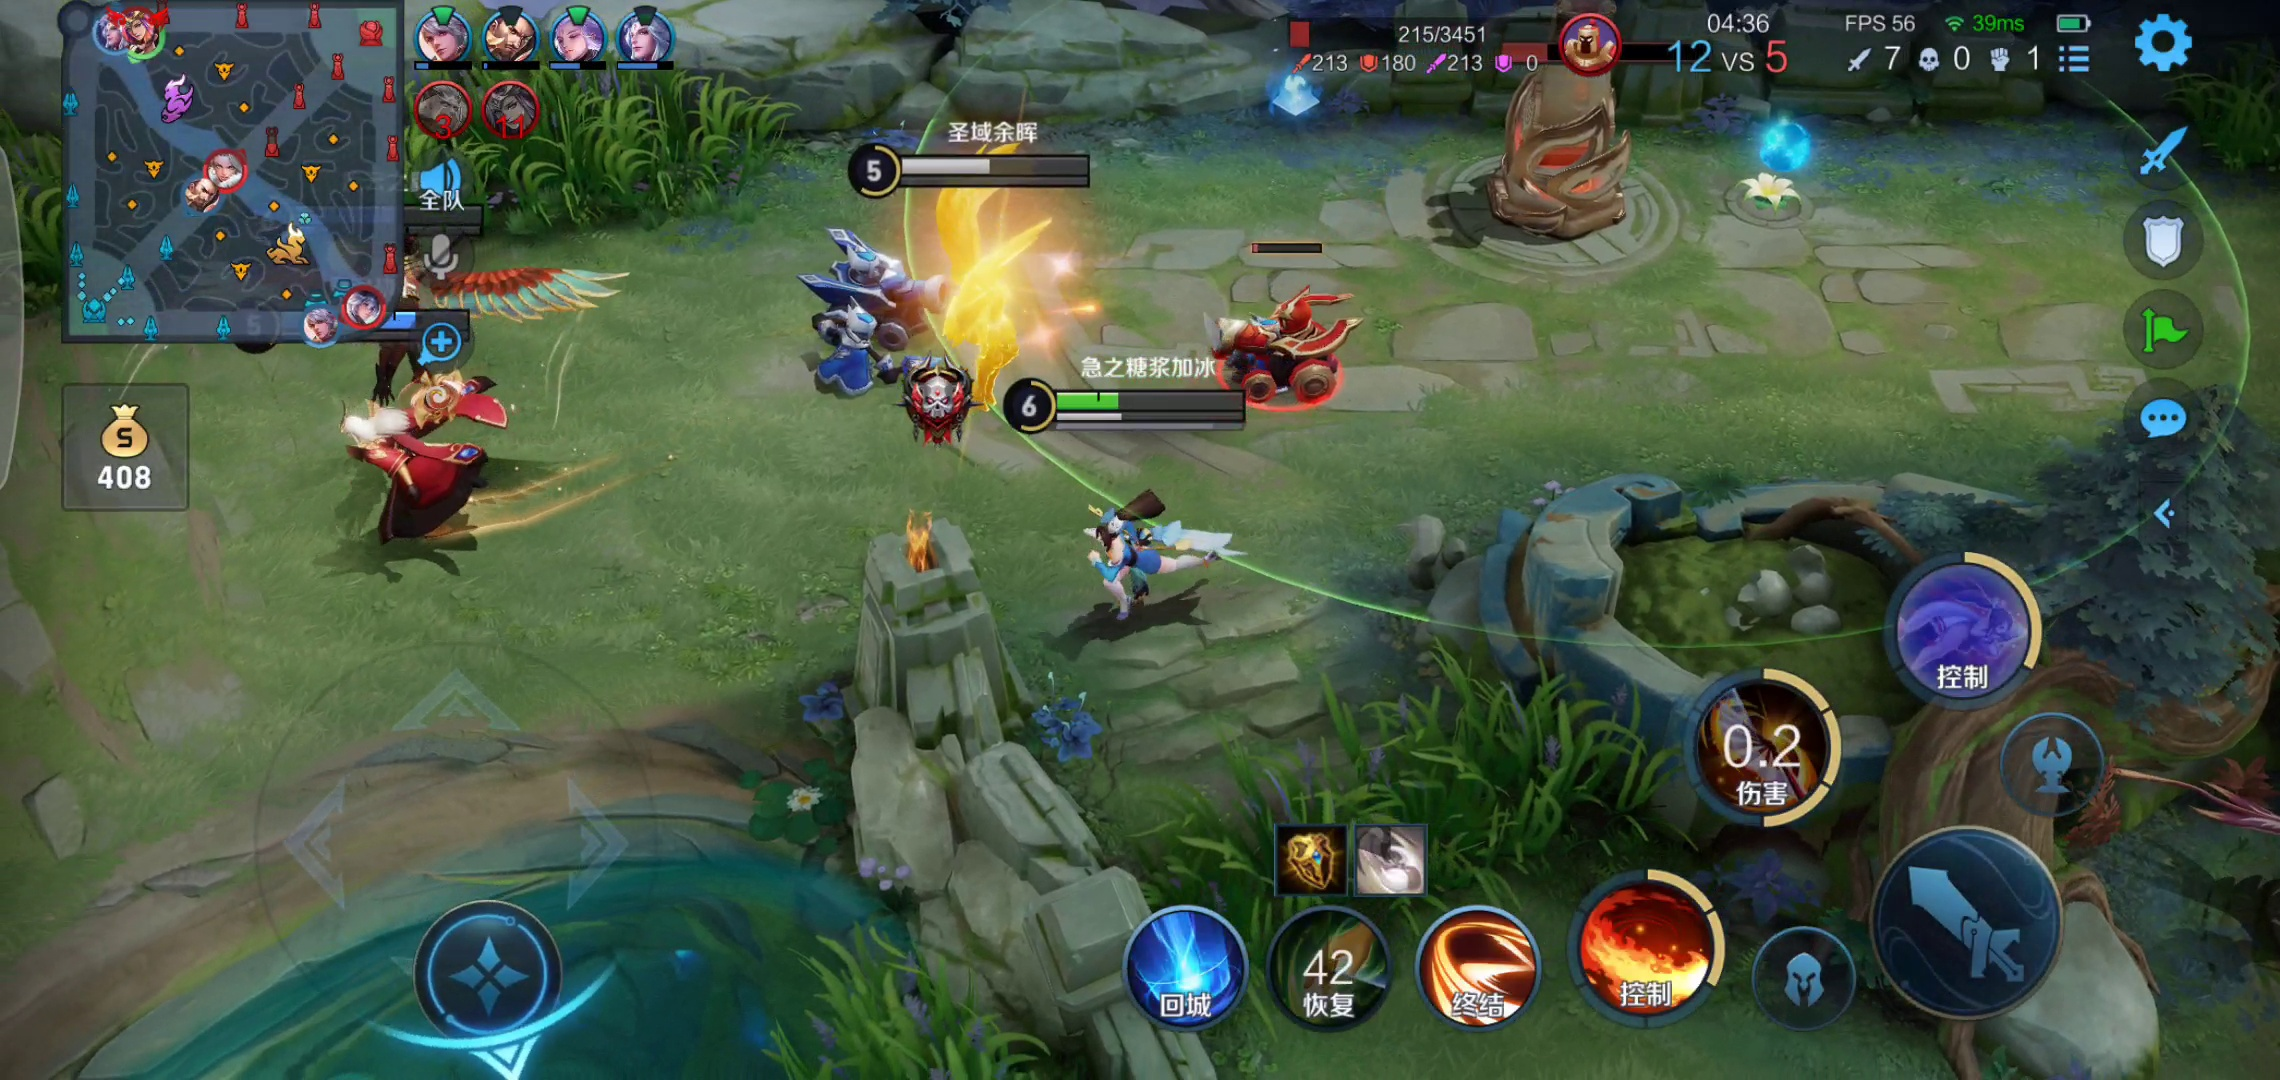grass: (1120, 699, 1637, 956), (412, 57, 766, 214), (772, 911, 1044, 1080)
hero: (326, 385, 494, 545), (928, 177, 1048, 395), (1069, 501, 1243, 629)
soldier: (1200, 281, 1358, 407), (817, 225, 950, 327), (790, 307, 923, 392)
tower: (1490, 9, 1661, 251)
